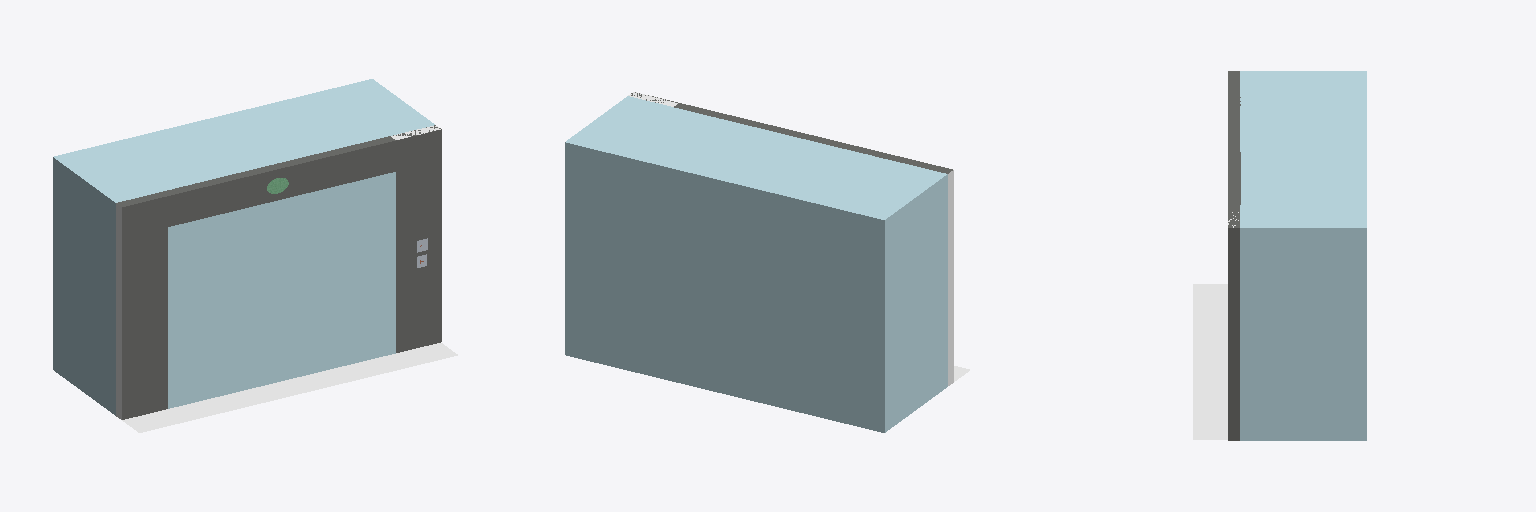
3 renders of one model, left to right at view 1: azimuth 30°, elevation 25°; view 2: azimuth 150°, elevation 25°; view 3: azimuth 270°, elevation 25°, orthographic.
Parts seen in each view (by area): view 1: Mesh3 Component_1_1 Model; view 2: Mesh3 Component_1_1 Model; view 3: Mesh3 Component_1_1 Model.
Boxes of the visible parts, x1,y1,x2,y2 form: Mesh3 Component_1_1 Model: [53, 79, 457, 432]; Mesh3 Component_1_1 Model: [565, 92, 969, 432]; Mesh3 Component_1_1 Model: [1193, 71, 1366, 440].
Bounding box in the file's own units: 627 × 399 × 295.
6 materials, 1 textured.